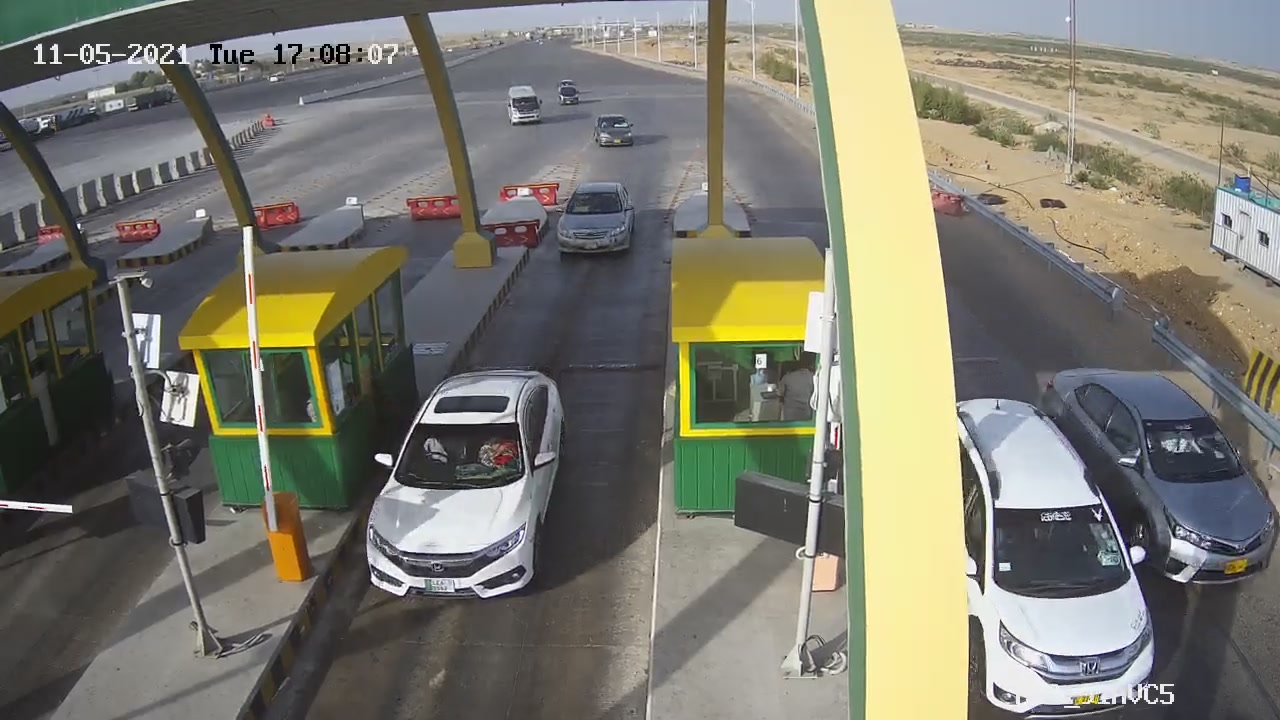F1: (338, 357, 594, 614), (540, 174, 646, 270)
